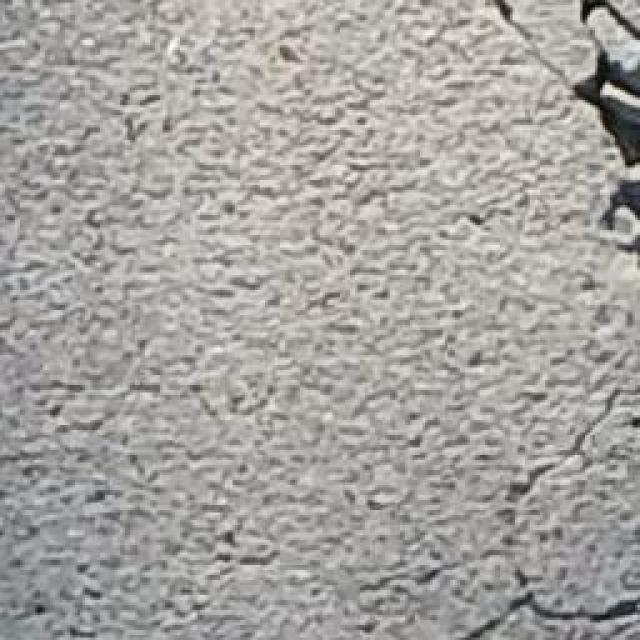concrete-crack: (466, 456, 637, 640)
